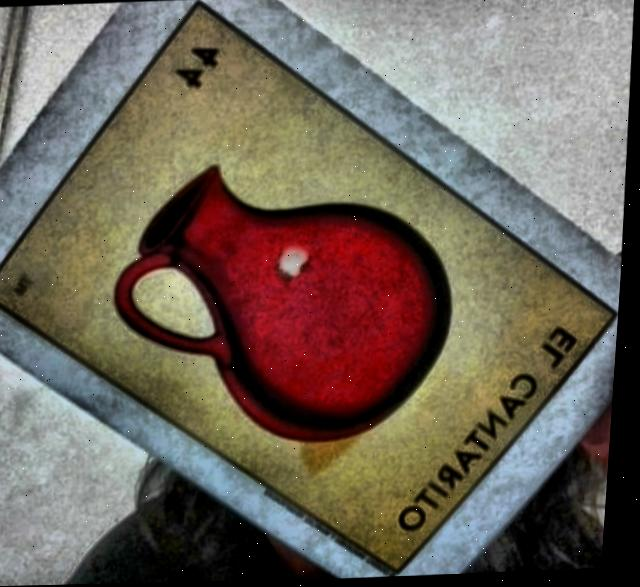El Cantarito: (0, 6, 617, 572)
